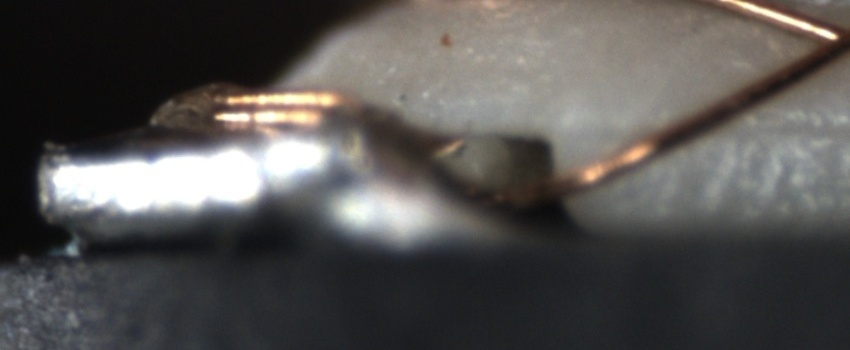CL: (795, 11, 850, 75)
DL: (582, 98, 849, 161)
TE: (180, 75, 364, 133)
